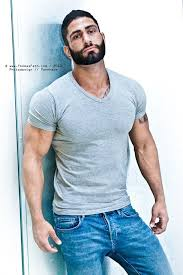middle_eastern_male: (65, 15, 106, 62)
